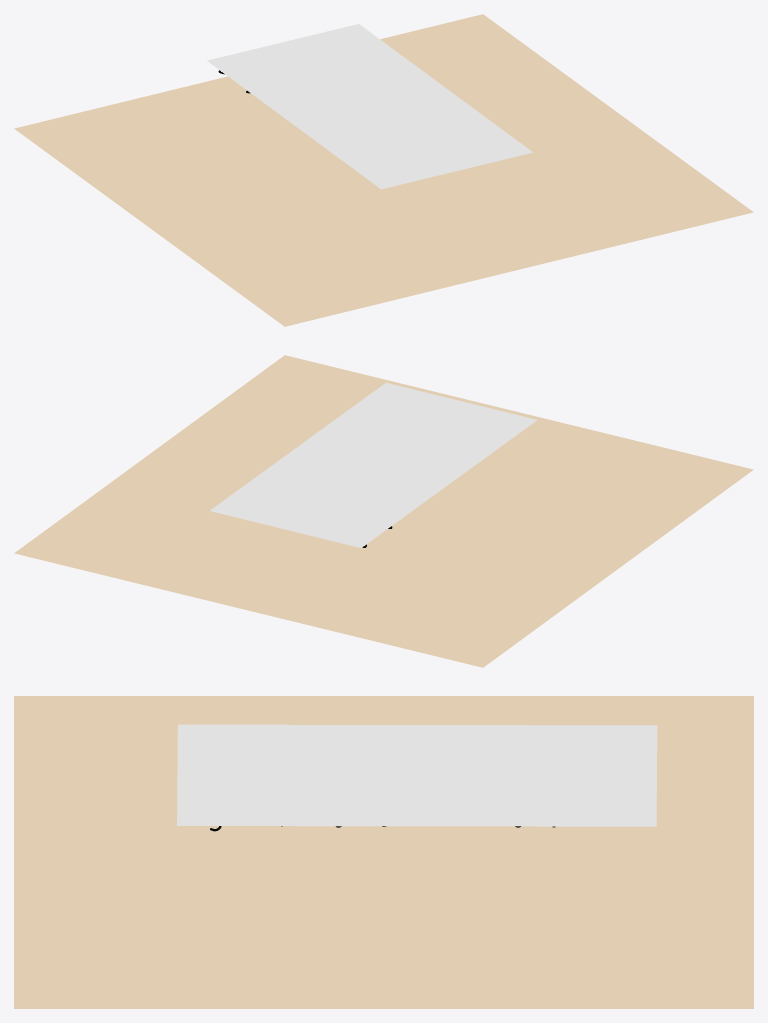
File: noCameraThree.gltf
3 views of the same model, one above another, from view 1: azimuth 30°, elevation 25°; view 2: azimuth 150°, elevation 25°; view 3: azimuth 270°, elevation 25° (orthographic). The views are drawn at different scales.
Visible parts, largest first — view 1: Plane001, Plane; view 2: Plane001, Plane; view 3: Plane001, Plane.
Boxes of the visible parts, box(x1,y1,x2,y2) form: Plane001: box(14, 14, 753, 326); Plane: box(207, 24, 532, 189); Plane001: box(14, 355, 753, 667); Plane: box(210, 382, 536, 547); Plane001: box(14, 696, 753, 1008); Plane: box(177, 724, 657, 826).
Size of the model in its own units: 6.17 by 0.6964 by 6.17.
